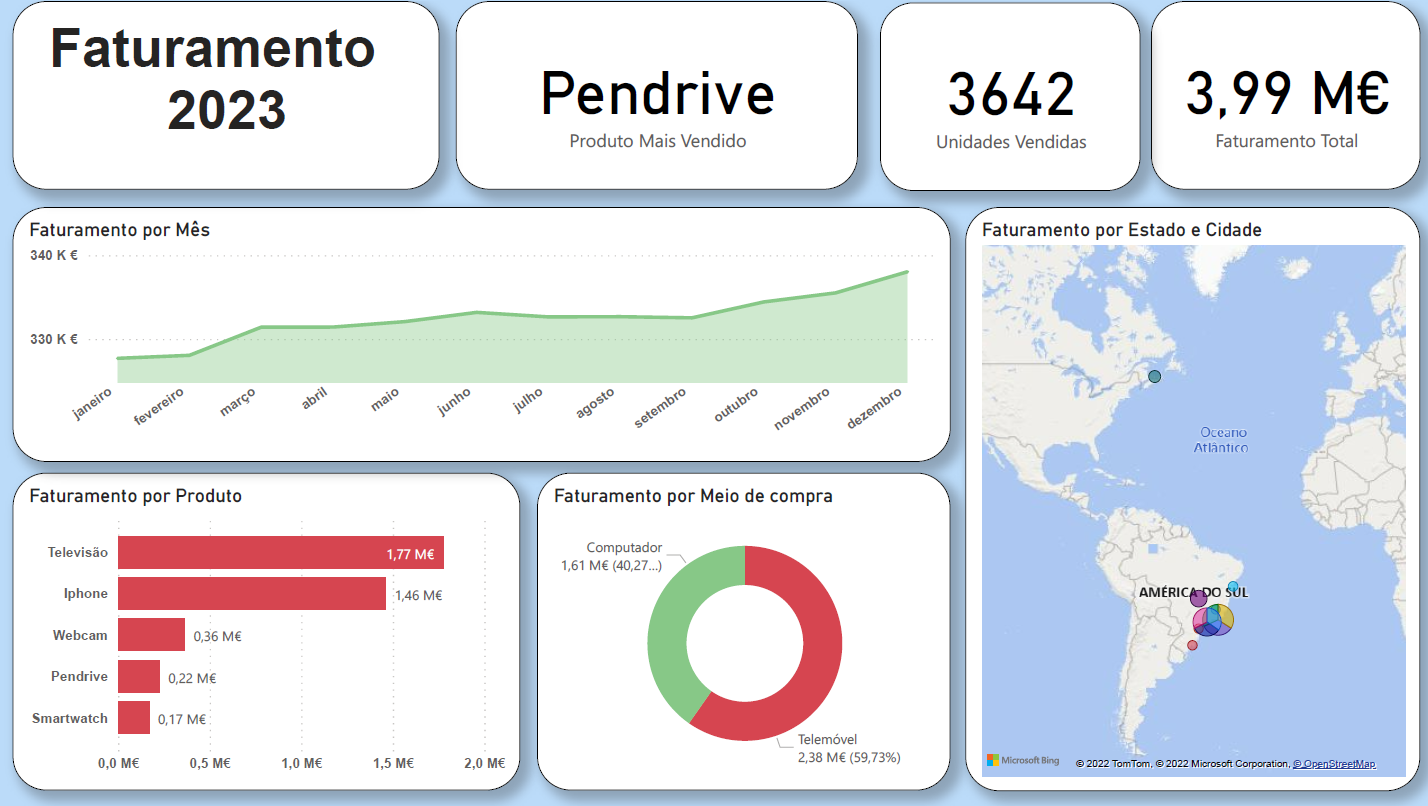

Layout of this report page (visuals, bound fields, positions):
{"tool":"powerbi","page":{"name":"Relatório 2","canvas":[1280,720],"ordinal":1},"visuals":[{"type":"card","fields":{"Values":["Sum(Relatório de Vendas.Venda Total)"]},"box":[1025,0,240,168.3],"z":0},{"type":"card","fields":{"Values":["Sum(Relatório de Vendas.Qtd vendida)"]},"box":[784.3,1.5,232.2,168],"z":1000},{"type":"card","fields":{"Values":["Min(Relatório de Vendas.Produto)"]},"box":[406,0,357.8,168],"z":2000},{"type":"barChart","title":"Faturamento por Produto","fields":{"Category":["Relatório de Vendas.Produto"],"Y":["Sum(Relatório de Vendas.Venda Total)"]},"box":[11.7,420,451.7,283.3],"z":3000},{"type":"areaChart","title":"Faturamento por Mês","fields":{"Y":["Sum(Relatório de Vendas.Venda Total)"],"Category":["Relatório de Vendas.Data.Variação.Hierarquia de Datas.Mês"]},"box":[11.7,183.3,835,226.7],"z":4000},{"type":"donutChart","title":"Faturamento por Meio de compra","fields":{"Y":["Sum(Relatório de Vendas.Venda Total)"],"Category":["Relatório de Vendas.Meio de compra"]},"box":[478.3,420,368.3,283.3],"z":5000},{"type":"map","title":"Faturamento por Estado e Cidade","fields":{"Category":["Relatório de Vendas.Estado"],"Size":["Sum(Relatório de Vendas.Venda Total)"],"Series":["Relatório de Vendas.Cidade"]},"box":[860,183.3,405,520],"z":6000},{"type":"textbox","box":[11.7,0,380,168.3],"z":7000}]}

Visuals, with their boxes in screenshot pixels (x1, y1, x2, y2), scaled from the page's 1280x720 canvas onto the 1428x806 screenshot:
card - Sum(Relatório de Vendas.Venda Total): detection(1144, 0, 1411, 188)
card - Sum(Relatório de Vendas.Qtd vendida): detection(875, 2, 1134, 190)
card - Min(Relatório de Vendas.Produto): detection(453, 0, 852, 188)
"Faturamento por Produto" barChart: detection(13, 470, 517, 787)
"Faturamento por Mês" areaChart: detection(13, 205, 945, 459)
"Faturamento por Meio de compra" donutChart: detection(534, 470, 944, 787)
"Faturamento por Estado e Cidade" map: detection(959, 205, 1411, 787)
textbox: detection(13, 0, 437, 188)
